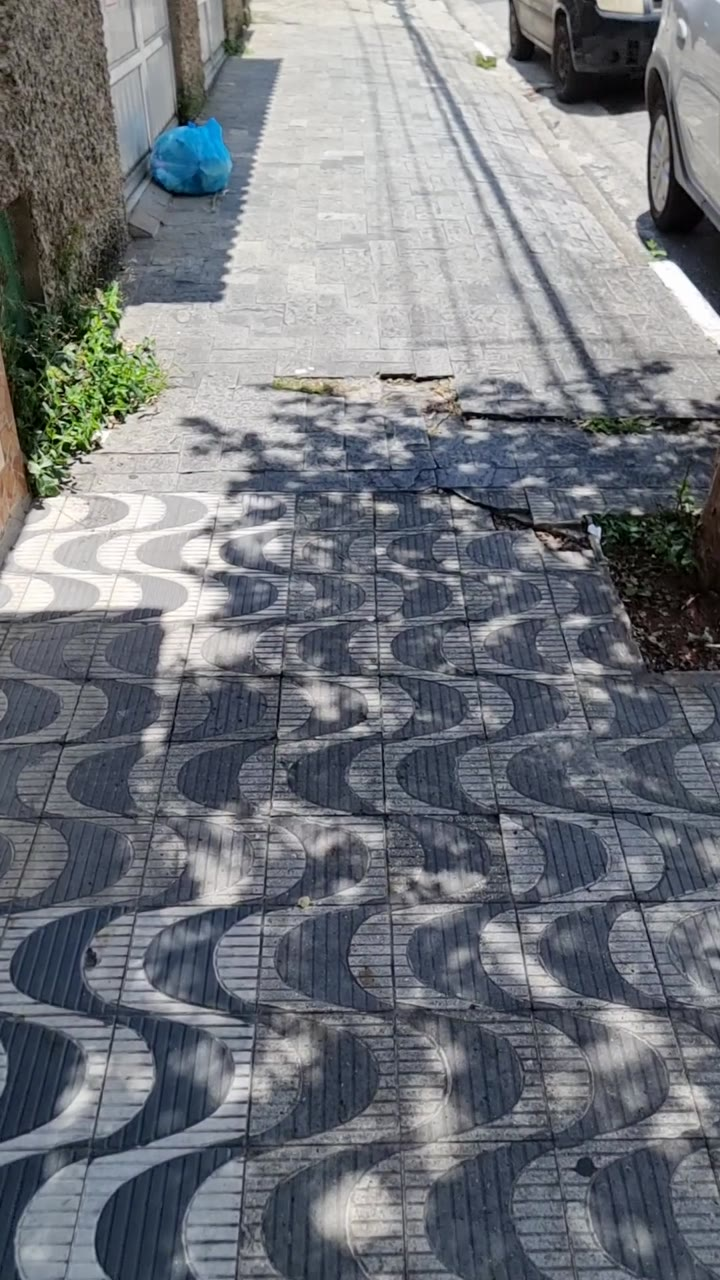desnivel: (252, 333, 612, 422)
obstaculo: (150, 118, 232, 195)
